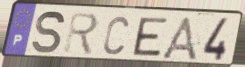4: (200, 16, 229, 63)
A: (158, 15, 199, 63)
C: (102, 14, 131, 56)
E: (132, 16, 170, 58)
R: (62, 11, 100, 58)
S: (31, 9, 67, 56)
